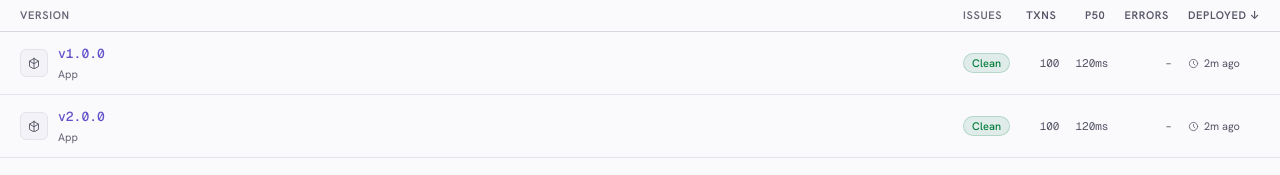
Scenario: ReleasesView › sorting › shows down-arrow icon (↓) for version column after second click (toggles to desc)
The width and height of the screenshot is (1280, 175).
Click the button with class "col-sort" showing "Version".
click(45, 15)  # box [20, 7, 947, 24]
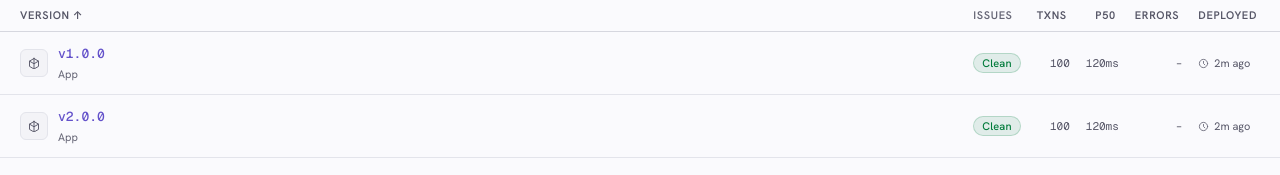
Click the button with class "col-sort" showing "Version ↑".
click(45, 15)  # box [20, 7, 957, 24]
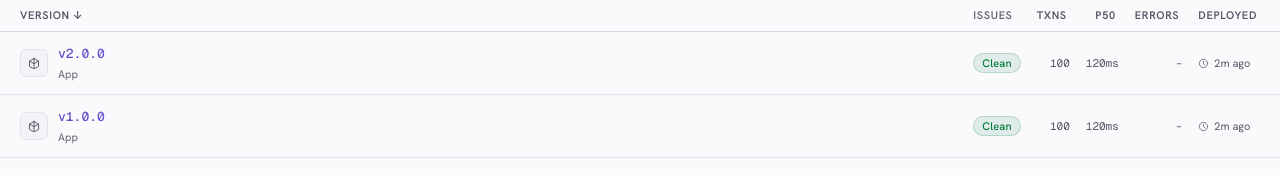
Now the icon with class "col-sort__icon" reads "↓", box [73, 8, 83, 22]
